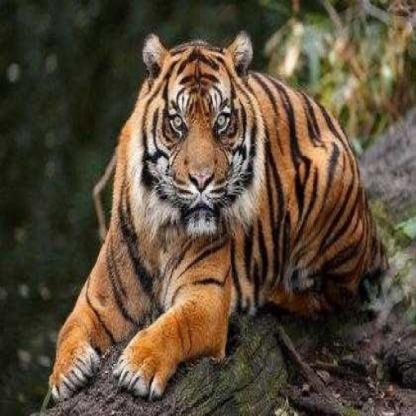Tiger: (30, 35, 393, 384)
